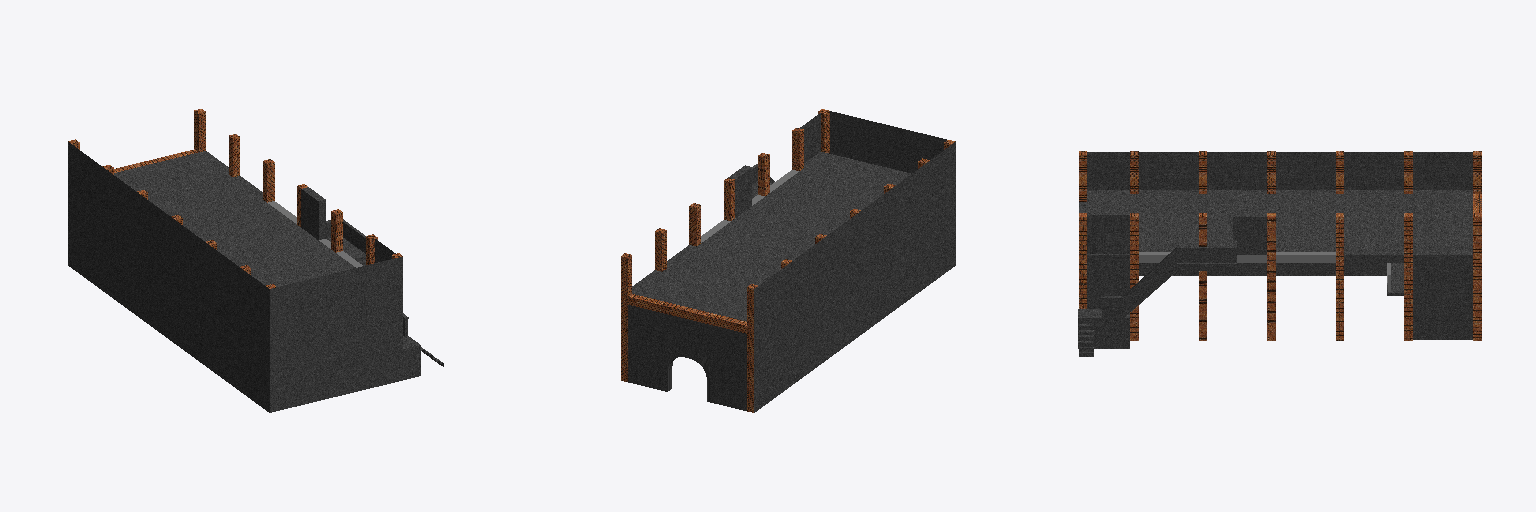
3 views of the same model, side by side, from view 1: azimuth 30°, elevation 25°; view 2: azimuth 150°, elevation 25°; view 3: azimuth 270°, elevation 25° (orthographic).
Visible parts, largest first — view 1: polySurface520; view 2: polySurface520; view 3: polySurface520.
Boxes of the visible parts, box(x1,y1,x2,y2) form: polySurface520: box(68, 109, 443, 412); polySurface520: box(621, 109, 955, 412); polySurface520: box(1078, 151, 1481, 356).
Bounding box in the file's own units: 23.46 × 16.01 × 47.05.
44 materials, 3 textured.